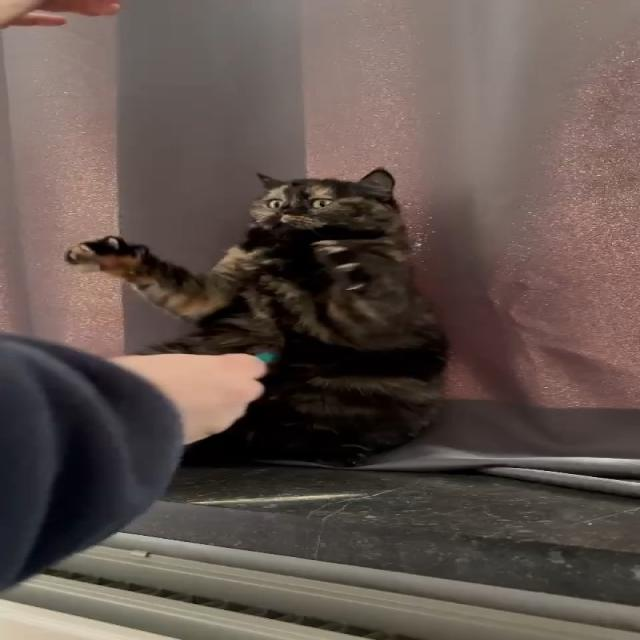authorized: (62, 167, 450, 468)
